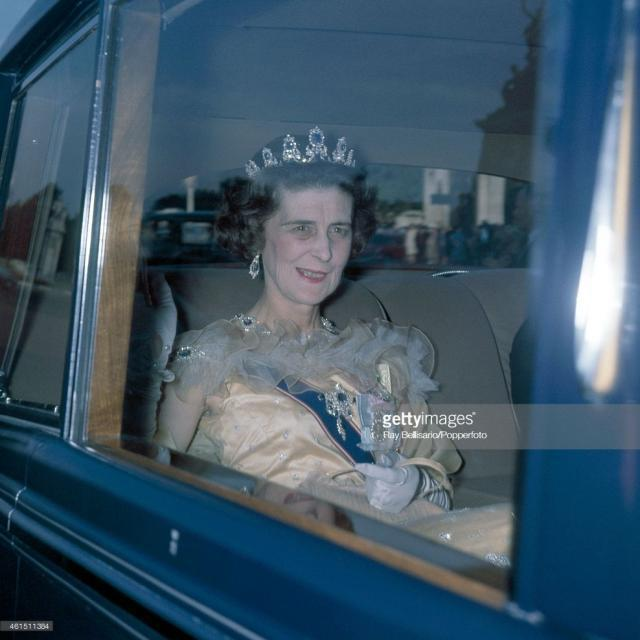Earring: (244, 246, 266, 286)
